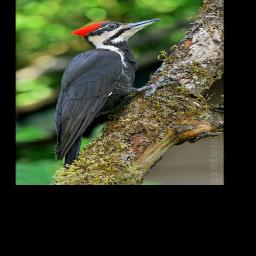Woodpecker: (43, 17, 177, 171)
